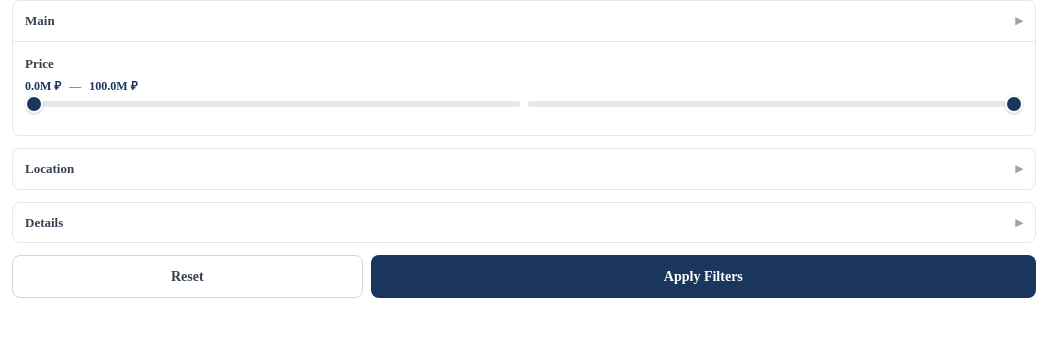
Test: FilterPanel › toggles location section
This screenshot has width=1048, height=340.
Expected: the text "▶" is shown 3 times, [1015, 13, 1023, 28]; [1015, 161, 1023, 176]; [1015, 215, 1023, 230]
Step 1. Click the text "Location" → x=50, y=169, box [25, 159, 74, 178]
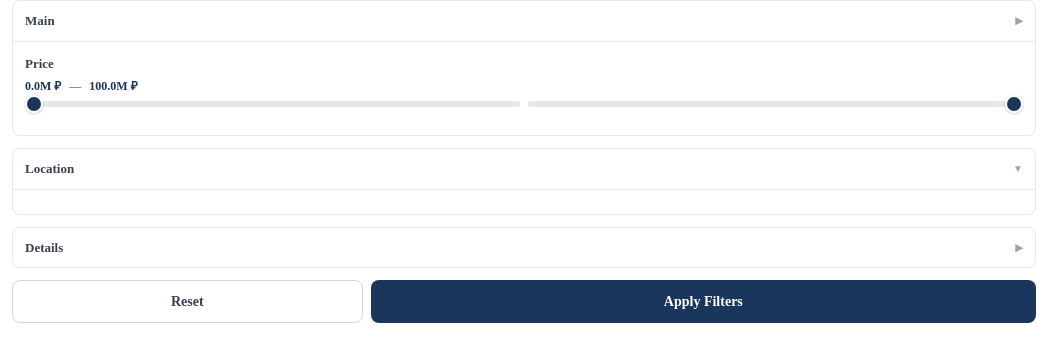
Expected: the text "▶" is shown 2 times, [1015, 13, 1023, 28]; [1015, 240, 1023, 255]
Now the text "▼" is shown, box [1013, 161, 1023, 176]
